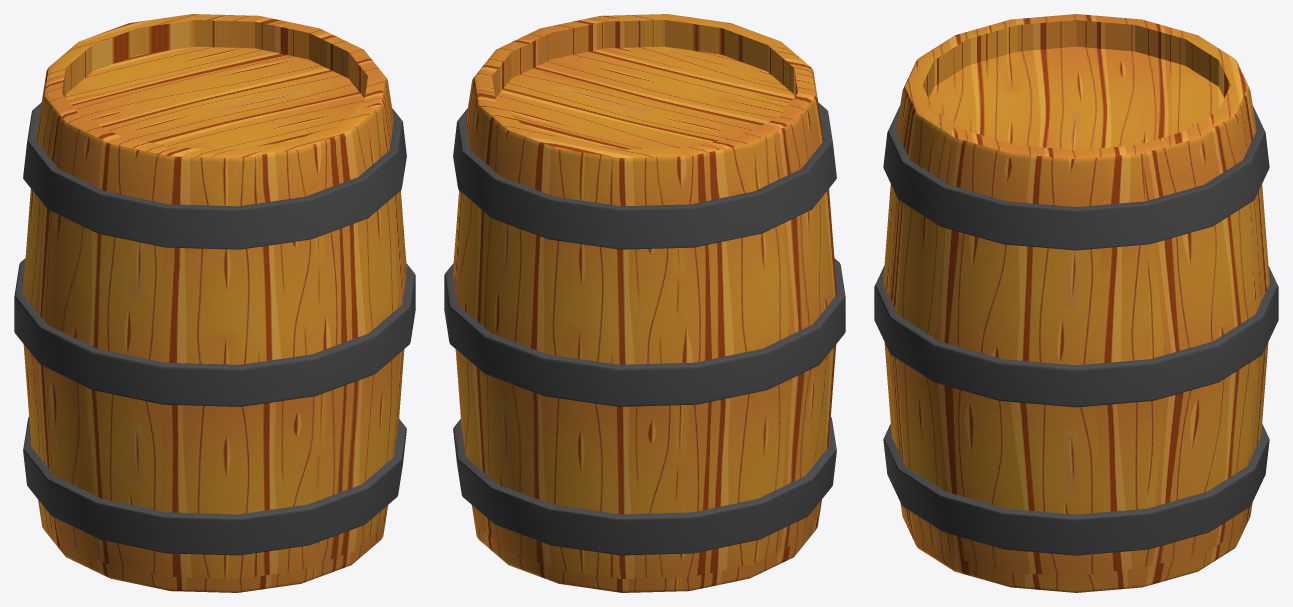
File: Coincraft_Barrel.fbx
3 renders of one model, left to right at view 1: azimuth 30°, elevation 25°; view 2: azimuth 150°, elevation 25°; view 3: azimuth 270°, elevation 25°, orthographic.
Visible parts, largest first — view 1: Barrel; view 2: Barrel; view 3: Barrel.
Part boxes in pixels (box(x1,y1,x2,y2)): Barrel: box(14, 14, 415, 592); Barrel: box(444, 14, 845, 592); Barrel: box(874, 14, 1278, 592).
Bounding box in the file's own units: 88.77 × 106 × 88.77.
2 materials, 1 textured.
